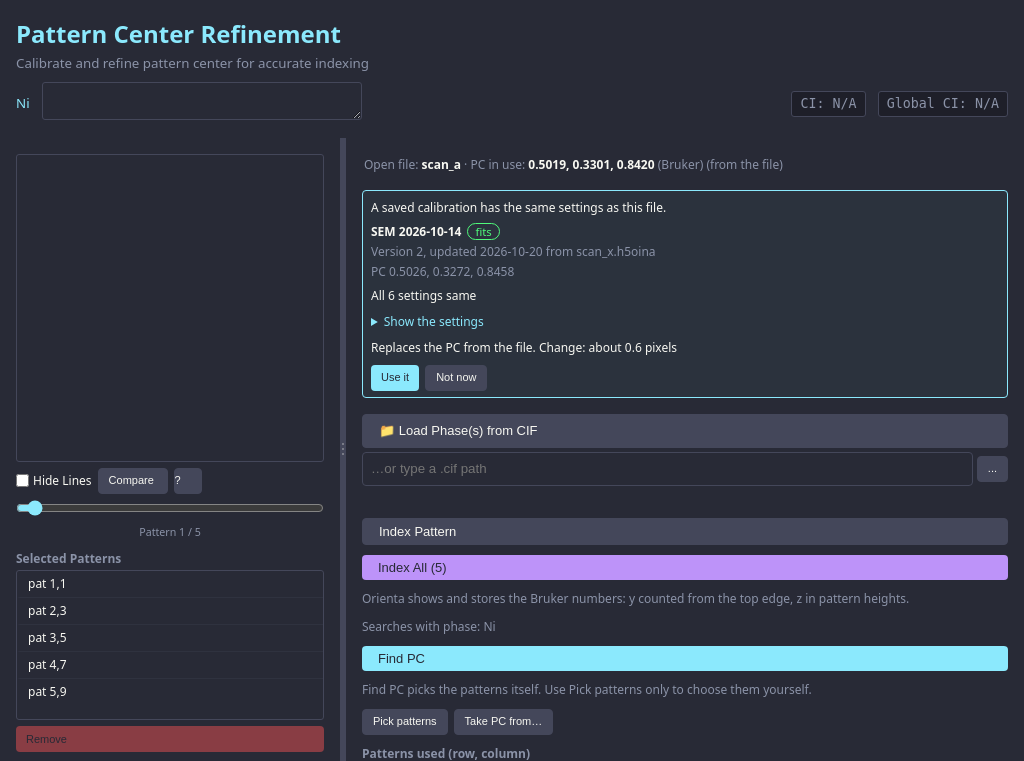
it: Save and Apply after a saved calibration was used › on an open copy the offer is applied to the file the copy was made from, and a copy with a PC of its own is told so
Click the button "Use it": x=395, y=378 [371,365,419,391]
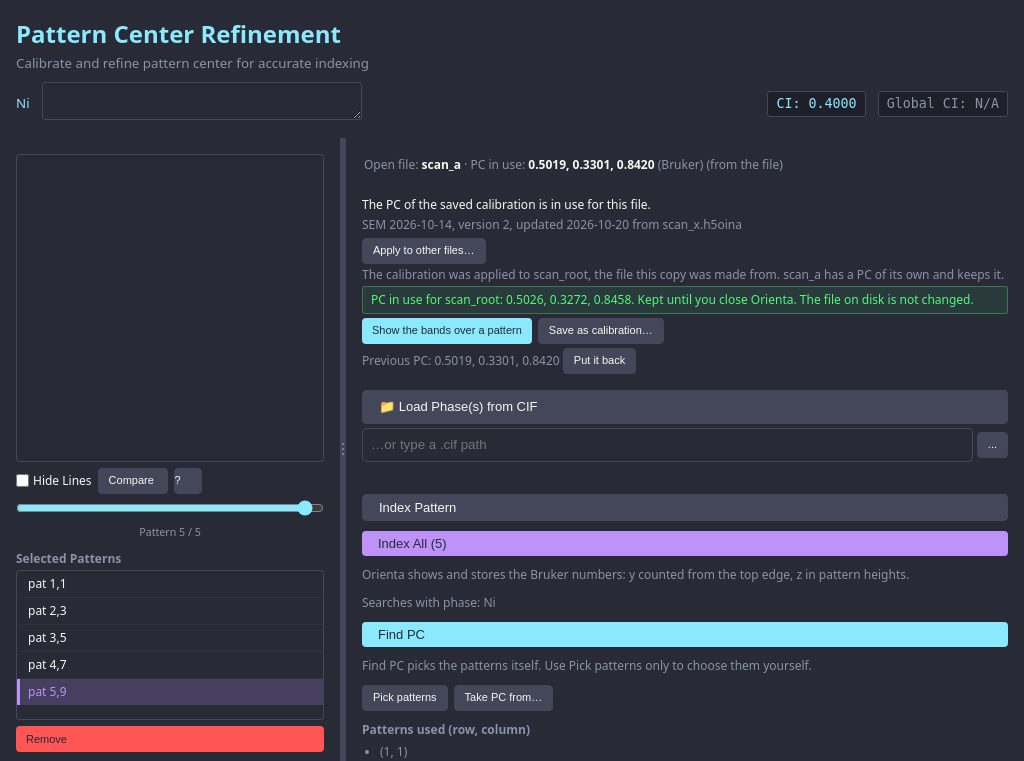
Expected: the message with test id "pc-grant-text" shows "PC in use for scan_root", [371,291,974,308]
Expected: the message with test id "calibration-copy-kept" shows "The calibration was applied to scan_root, the file this copy was made from. scan_a has a PC of its own and keeps it.", [362,266,1004,283]
